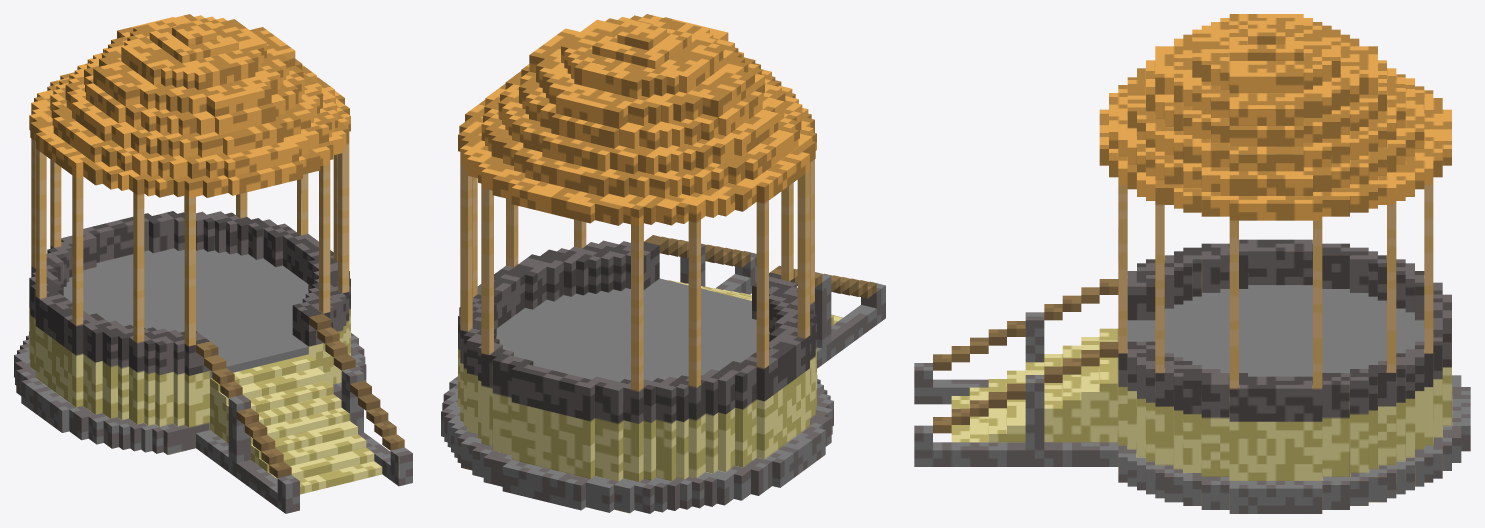
Rendered from Kiosk.glb.
3 views of the same model, side by side, from view 1: azimuth 30°, elevation 25°; view 2: azimuth 150°, elevation 25°; view 3: azimuth 270°, elevation 25° (orthographic). The views are drawn at different scales.
Visible parts, largest first — view 1: Kiosk; view 2: Kiosk; view 3: Kiosk.
Part boxes in pixels (x1,y1,x2,y2): Kiosk: (14, 14, 412, 513); Kiosk: (441, 14, 885, 513); Kiosk: (914, 14, 1470, 513).
Size of the model in its own units: 4.2 by 4.8 by 6.
1 material, 1 textured.
